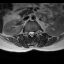CCS_normal: (30, 29, 33, 39)
LFS_normal: (34, 30, 36, 36)
LLS_normal: (33, 30, 35, 36)
RFS_normal: (26, 30, 29, 36)
RLS_normal: (28, 30, 30, 36)
